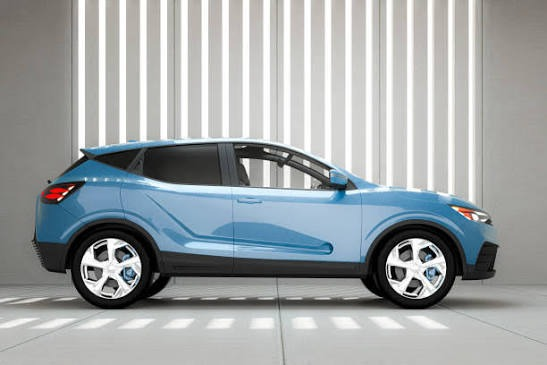car: (21, 136, 510, 303)
